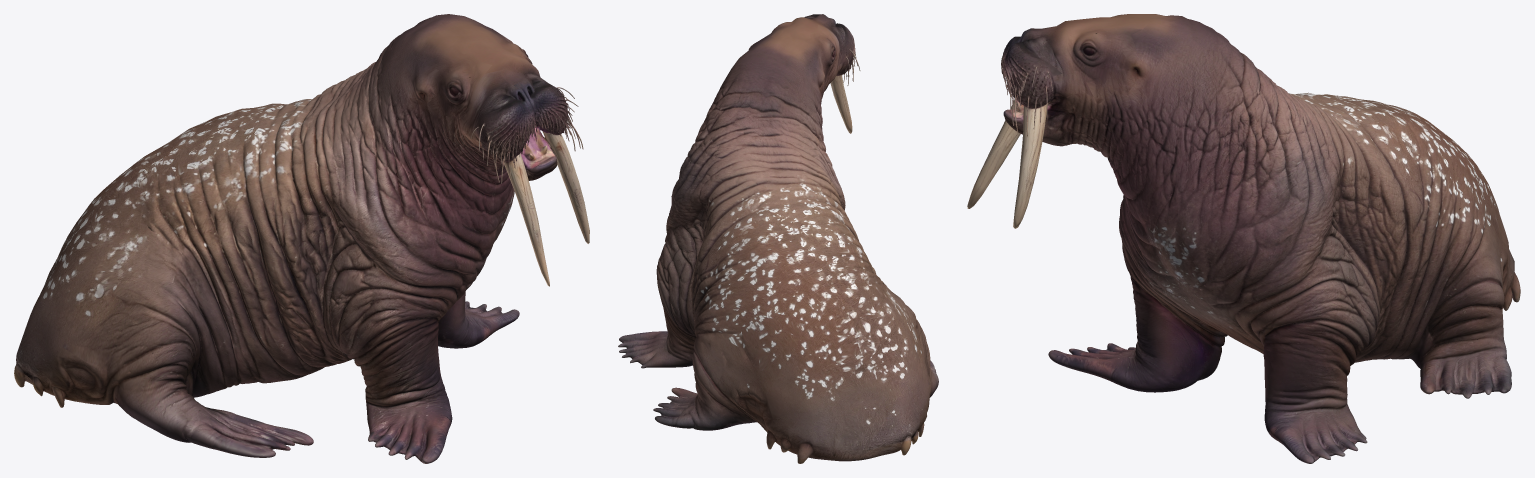
The model's file is morsa_bebe.glb.
The picture shows the model from 3 angles, left to right: view 1: azimuth 30°, elevation 25°; view 2: azimuth 150°, elevation 25°; view 3: azimuth 270°, elevation 25°; orthographic projection. The views are drawn at different scales.
Parts seen in each view (by area): view 1: mesh_node_0; view 2: mesh_node_0; view 3: mesh_node_0.
Boxes of the visible parts, x1,y1,x2,y2 form: mesh_node_0: [14, 14, 589, 463]; mesh_node_0: [618, 14, 938, 463]; mesh_node_0: [967, 14, 1520, 463].
Bounding box in the file's own units: 3.52 × 2.92 × 3.78.
Materials: 1 (1 with a texture image).
